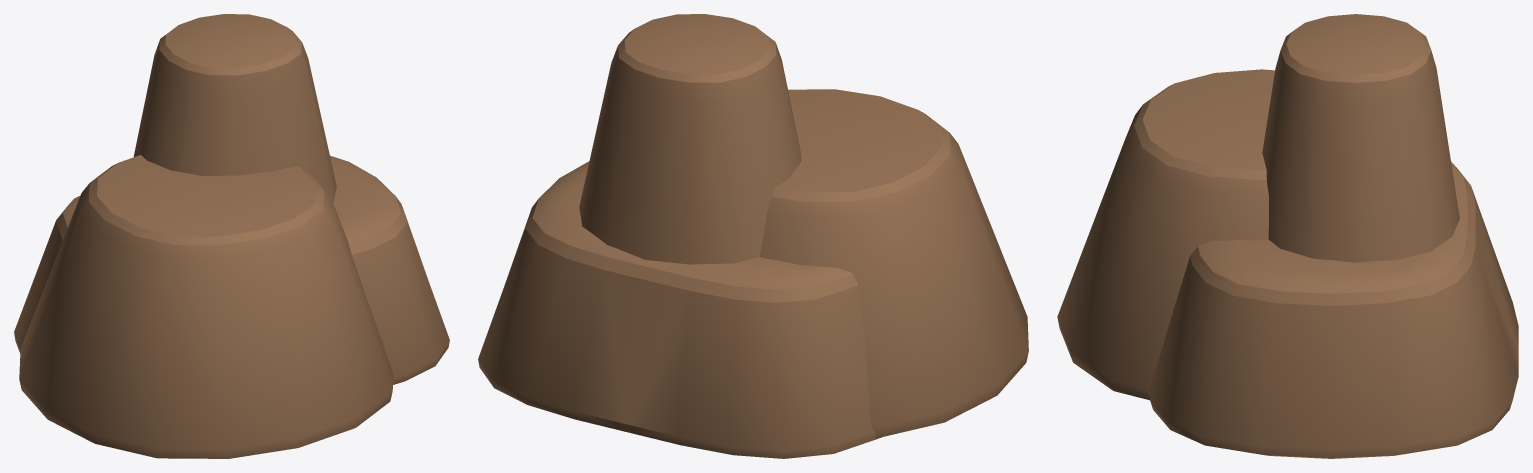
The model's file is RockPlatforms_3.glb.
3 views of the same model, side by side, from view 1: azimuth 30°, elevation 25°; view 2: azimuth 150°, elevation 25°; view 3: azimuth 270°, elevation 25° (orthographic). The views are drawn at different scales.
Visible parts, largest first — view 1: RockPlatforms_3; view 2: RockPlatforms_3; view 3: RockPlatforms_3.
Part boxes in pixels (box(x1,y1,x2,y2)): RockPlatforms_3: box(14, 14, 449, 458); RockPlatforms_3: box(478, 14, 1028, 458); RockPlatforms_3: box(1057, 14, 1518, 458).
Size of the model in its own units: 6 by 4.38 by 5.44.
